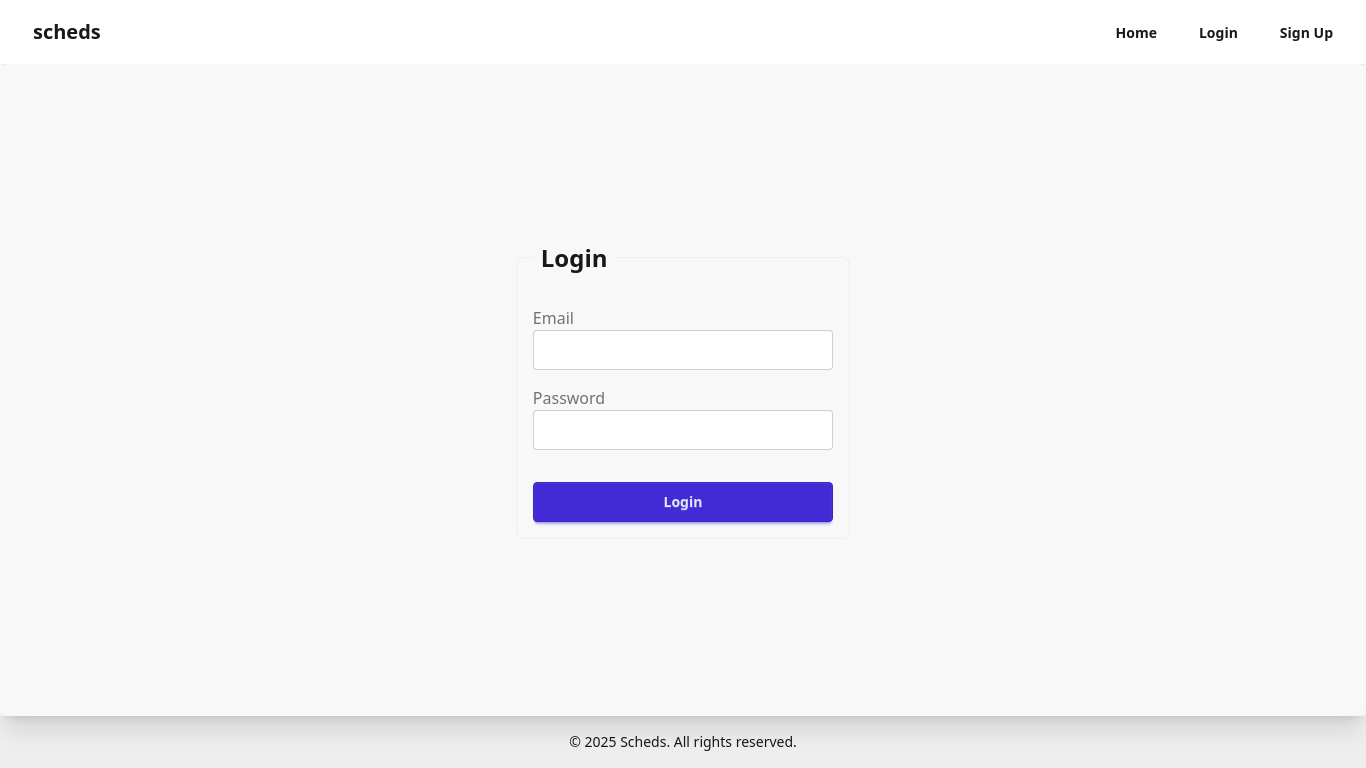
Test: Login Page › displays error message when API.login returns error
# Simulate user input
In the field labelled "Email": coordinates (683, 350) top-left (533, 330), bottom-right (833, 370), type "test@example.com"
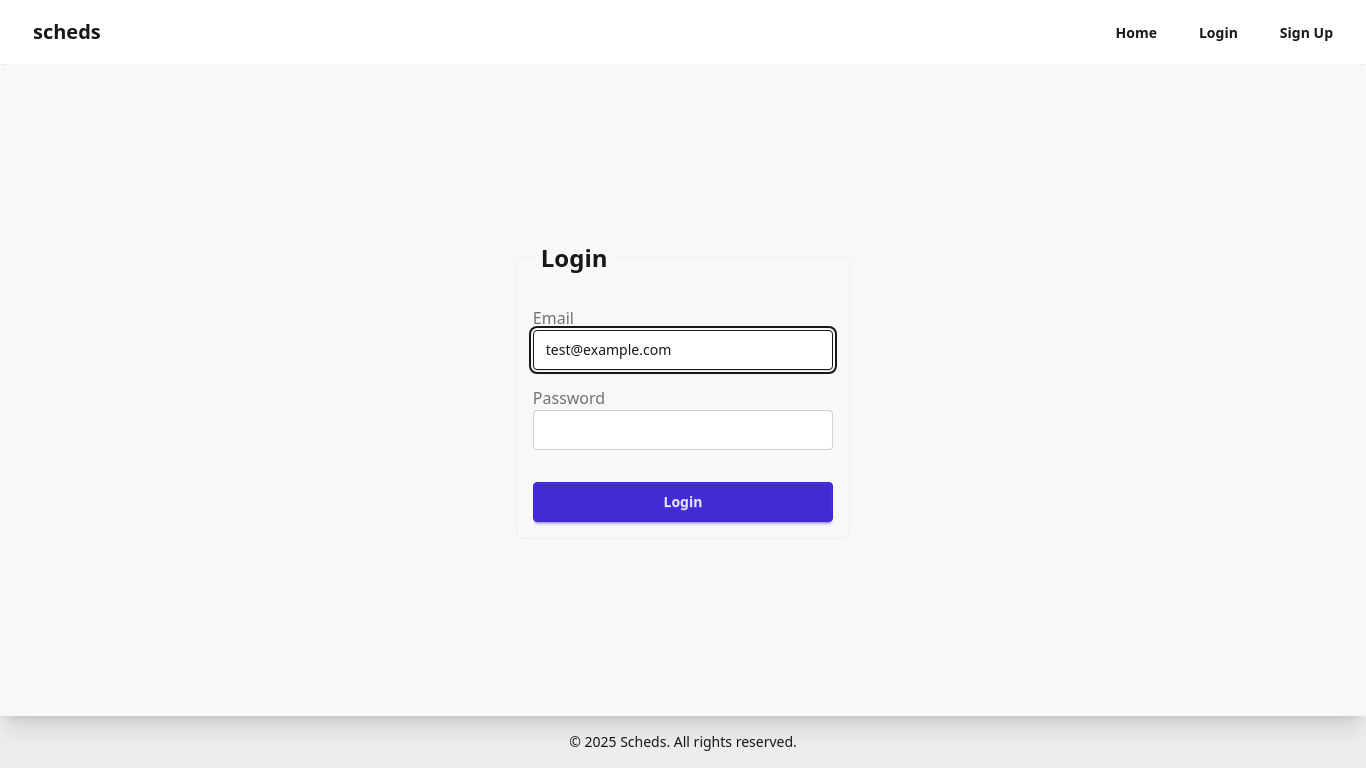
In the password field labelled "Password": coordinates (683, 430) top-left (533, 410), bottom-right (833, 450), type "securepass"
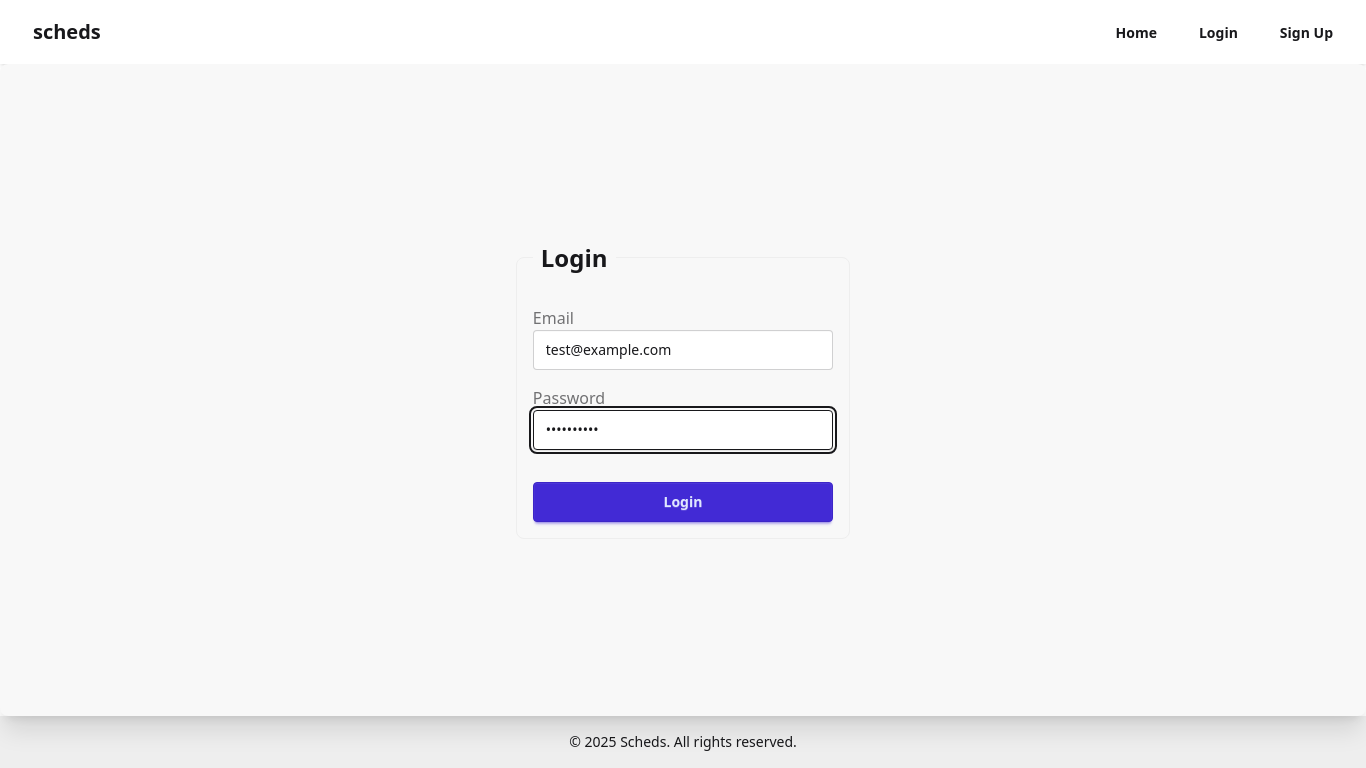
Click the button "Login": coordinates (683, 502) top-left (533, 482), bottom-right (833, 522)
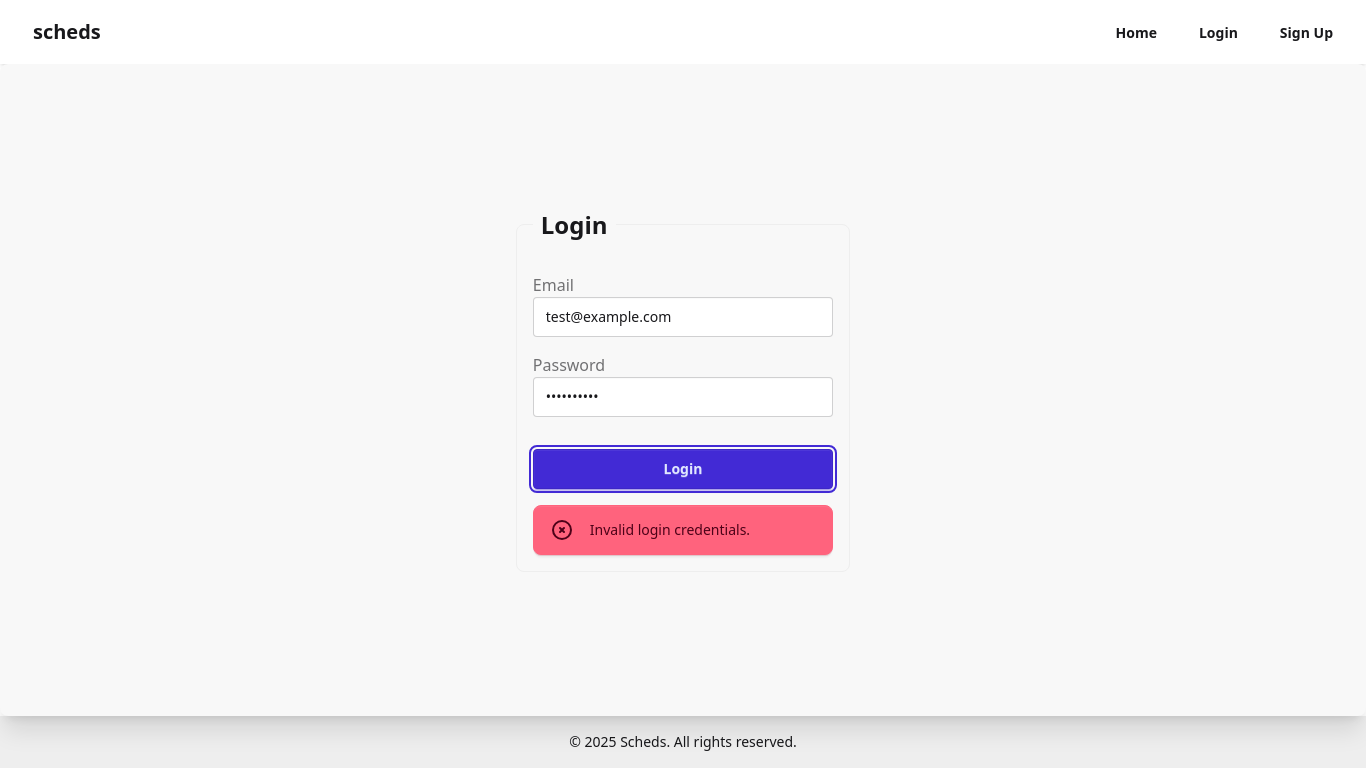
Expected: the message reads "Invalid login credentials.", top-left (590, 520), bottom-right (750, 538)
